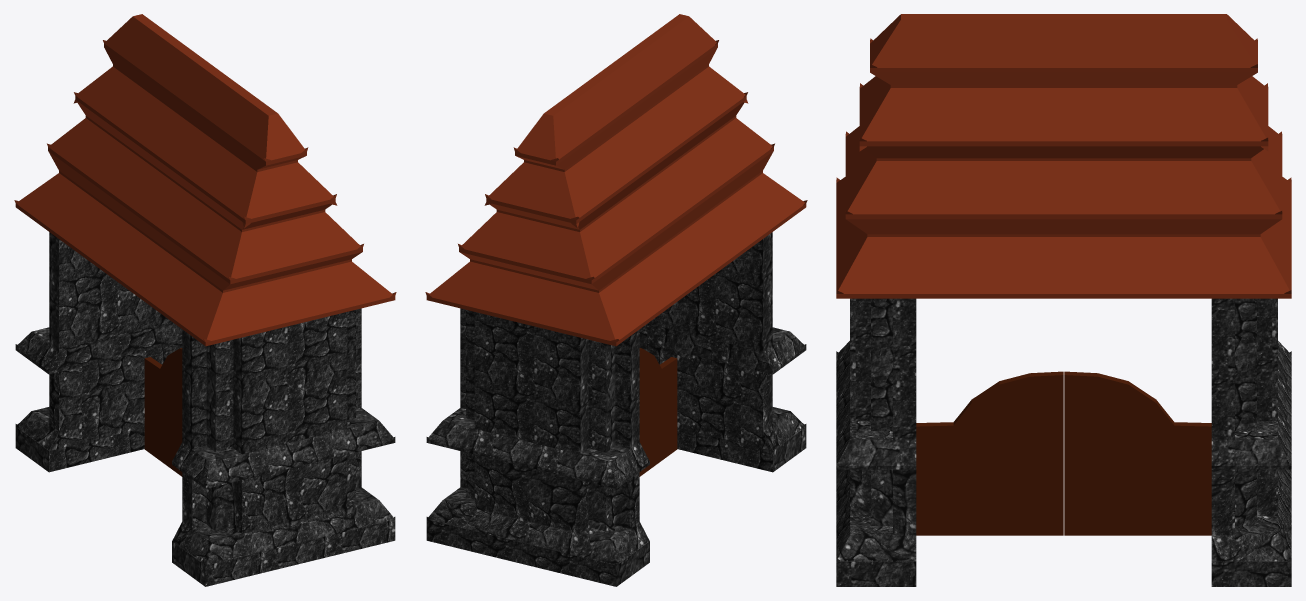
The model's file is Gerbang.fbx.
3 views of the same model, side by side, from view 1: azimuth 30°, elevation 25°; view 2: azimuth 150°, elevation 25°; view 3: azimuth 270°, elevation 25° (orthographic). The views are drawn at different scales.
Parts seen in each view (by area): view 1: tiang gerbang, atap gerbang, pintu gerbang; view 2: tiang gerbang, atap gerbang, pintu gerbang; view 3: atap gerbang, tiang gerbang, pintu gerbang.
Boxes of the visible parts, x1,y1,x2,y2 form: tiang gerbang: (15,232,395,586); atap gerbang: (14,14,396,346); pintu gerbang: (144,348,182,476); tiang gerbang: (426,232,806,586); atap gerbang: (425,14,807,346); pintu gerbang: (639,348,677,476); atap gerbang: (836,14,1291,298); tiang gerbang: (836,298,1291,586); pintu gerbang: (916,371,1211,535).
Size of the model in its own units: 4.44 by 9.46 by 7.58.
